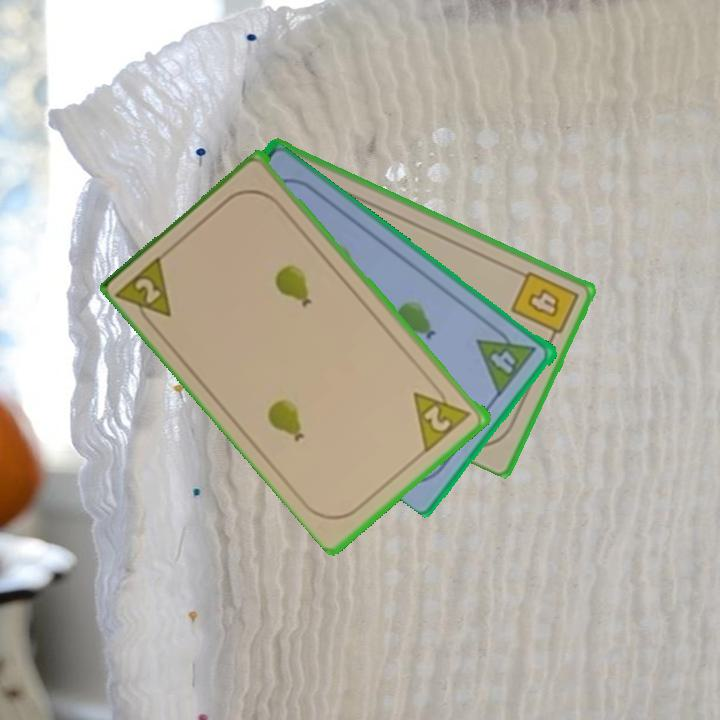2p: (114, 250, 176, 334), (410, 377, 476, 454)
4b: (507, 267, 582, 345)
4p: (473, 320, 540, 398)
